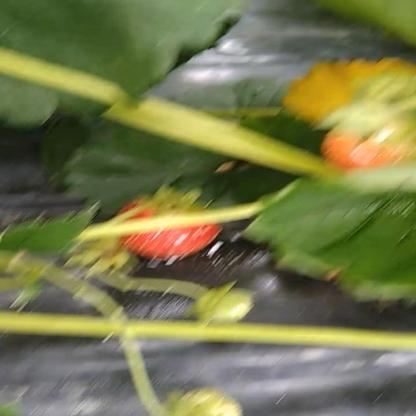ripe: (126, 199, 226, 261), (315, 118, 416, 173)
unripe: (186, 286, 266, 321), (160, 386, 242, 415)
